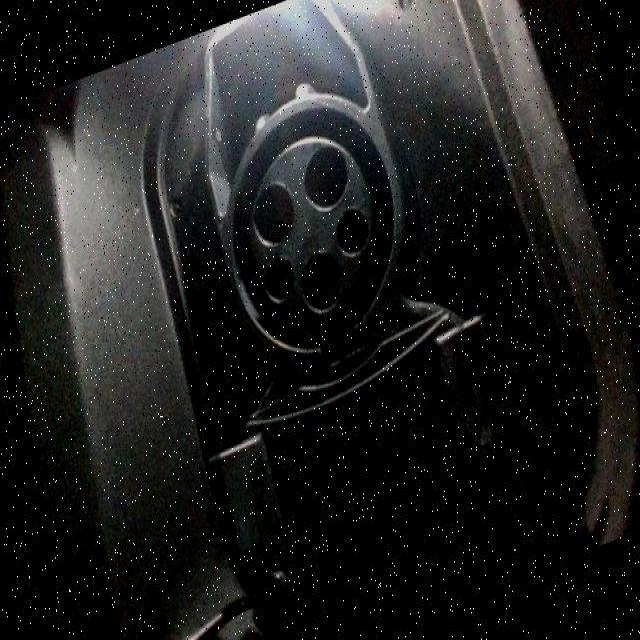Type 1: (229, 117, 385, 350)
